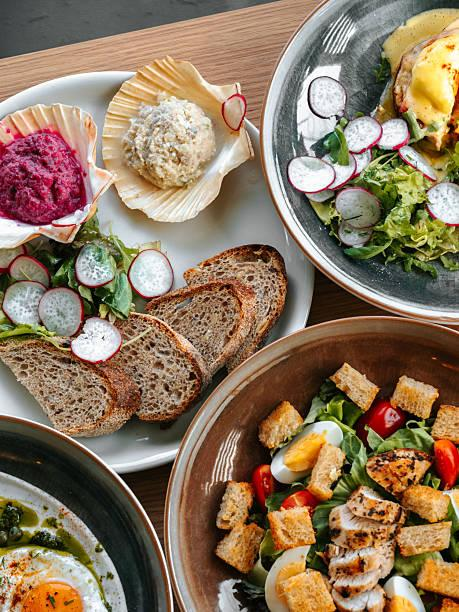Braised Crucian Carp: (2, 73, 306, 453), (158, 312, 459, 612), (260, 2, 452, 320)
